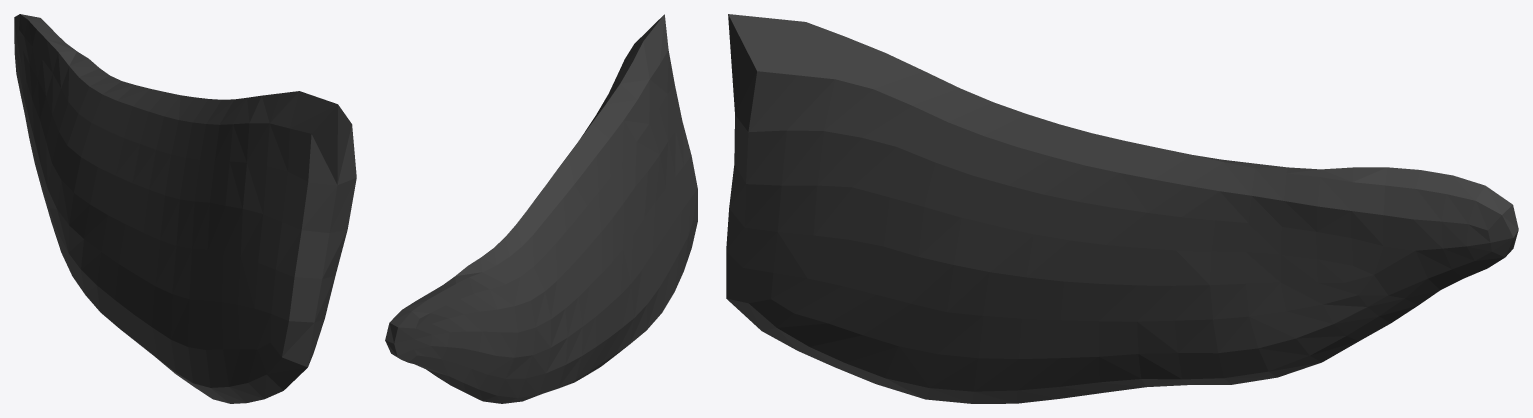
The model's file is buccinator_molar.glb.
3 views of the same model, side by side, from view 1: azimuth 30°, elevation 25°; view 2: azimuth 150°, elevation 25°; view 3: azimuth 270°, elevation 25° (orthographic). The views are drawn at different scales.
Visible parts, largest first — view 1: buccinator_molar; view 2: buccinator_molar; view 3: buccinator_molar.
Part boxes in pixels (x1=…): buccinator_molar: x1=14, y1=14, x2=356, y2=403; buccinator_molar: x1=385, y1=14, x2=697, y2=403; buccinator_molar: x1=726, y1=14, x2=1518, y2=403.
Size of the model in its own units: 0.0651 by 0.2276 by 0.3955.
Materials: 1 (1 with a texture image).
